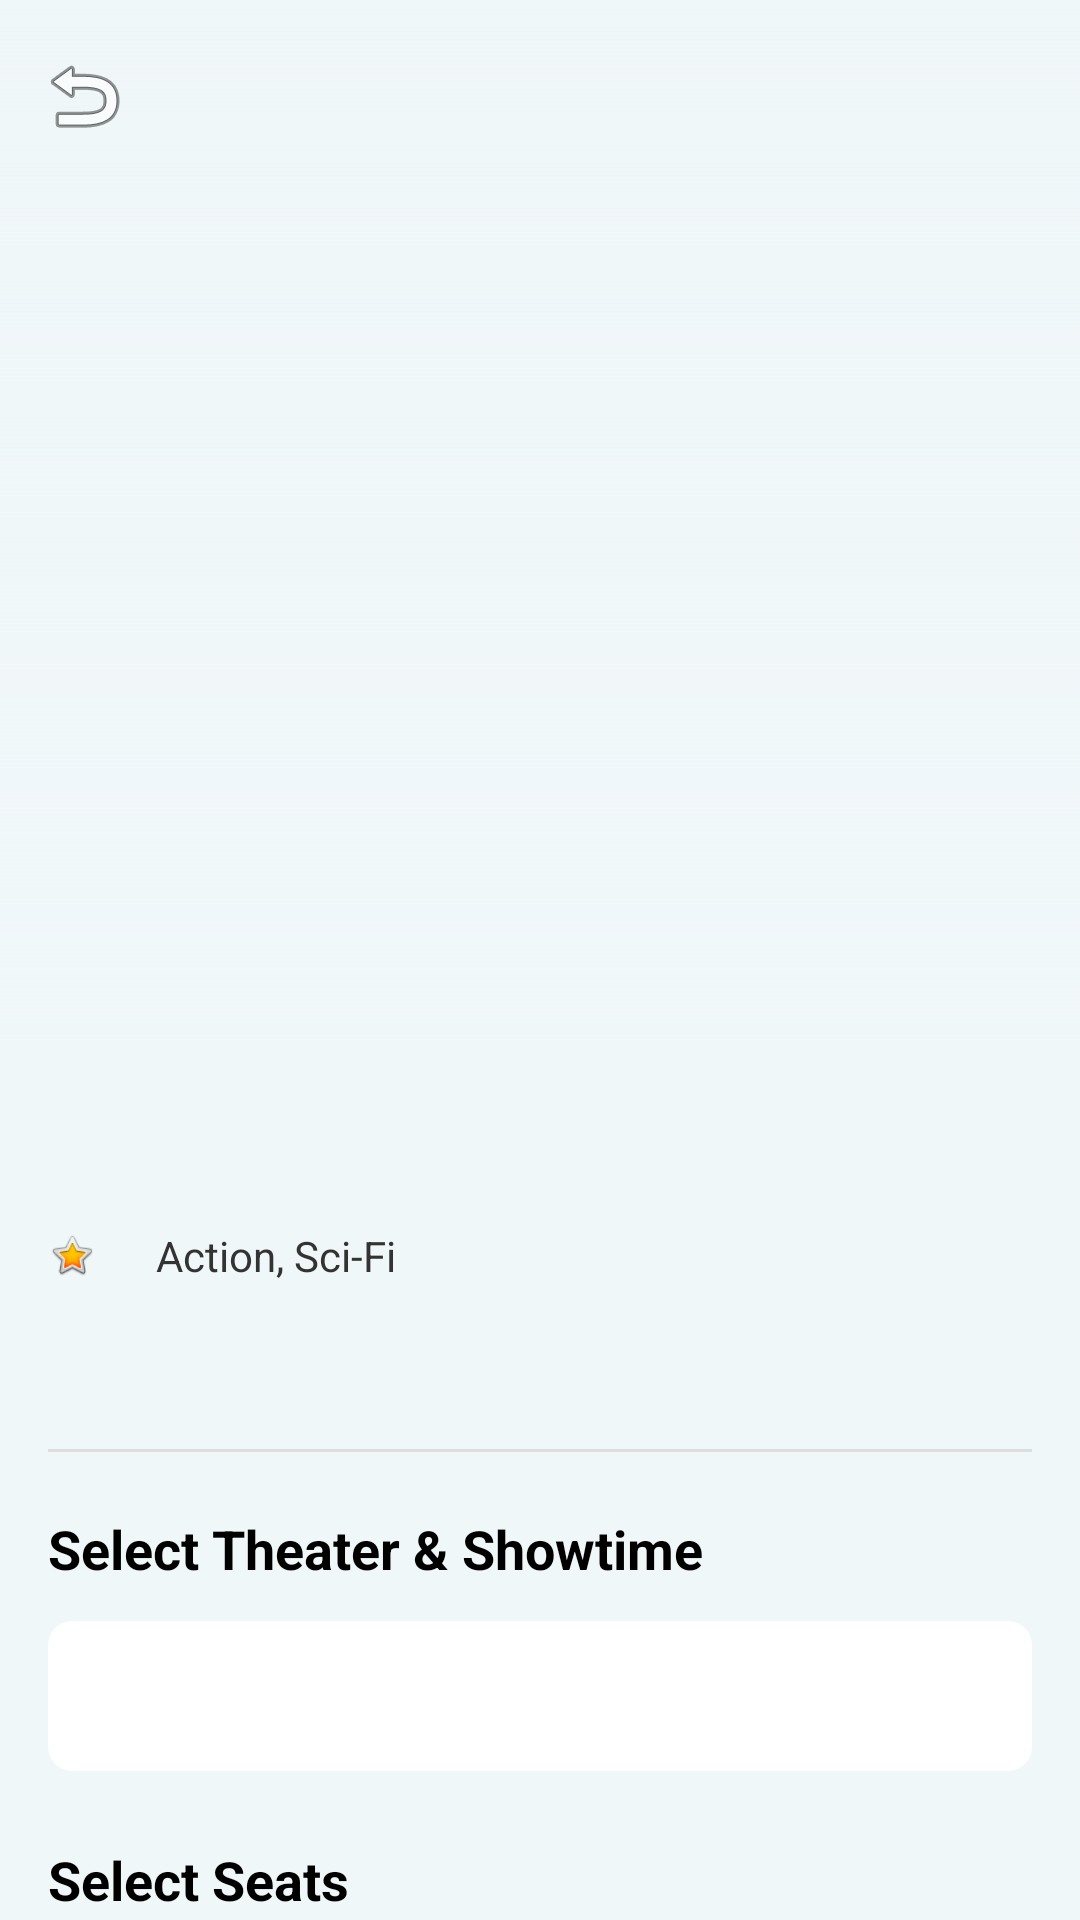

Icon bounding boxes for this 1080px x 1920px phone screenshot, format box=[x1, y1, x2, y2]:
star on: box=[52, 1236, 92, 1275]
